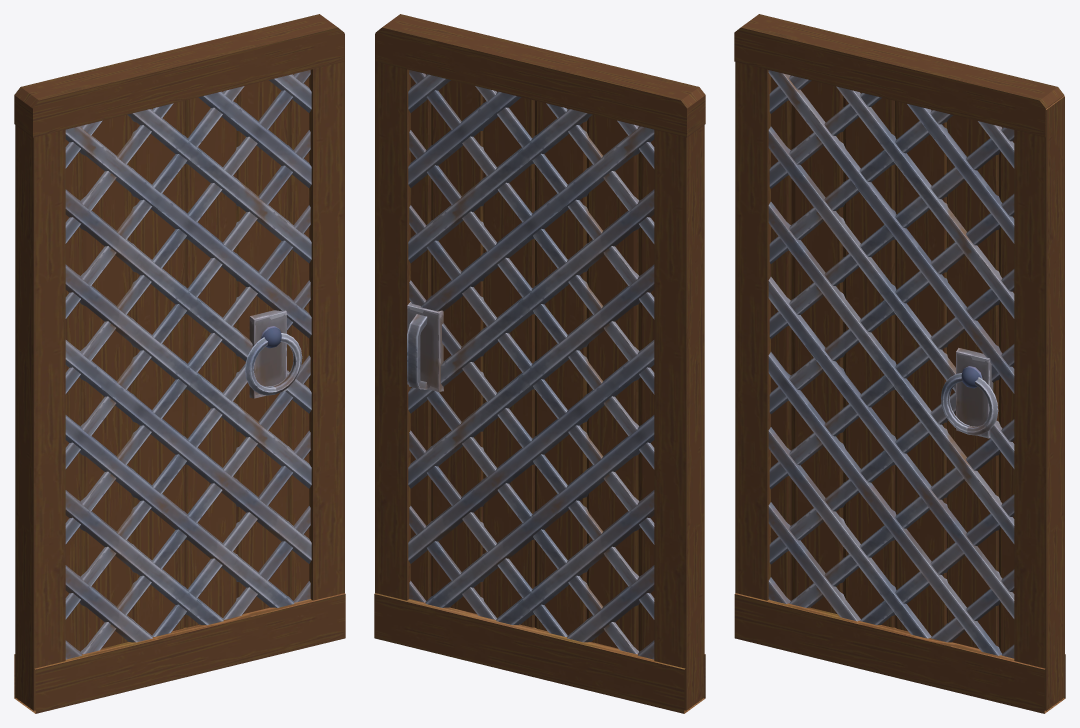
File: Door_4_Flat.gltf
3 views of the same model, side by side, from view 1: azimuth 30°, elevation 25°; view 2: azimuth 150°, elevation 25°; view 3: azimuth 330°, elevation 25° (orthographic).
Parts seen in each view (by area): view 1: Door_4_Flat; view 2: Door_4_Flat; view 3: Door_4_Flat.
Part boxes in pixels (x1,y1,x2,y2): Door_4_Flat: [14, 14, 345, 713]; Door_4_Flat: [374, 14, 705, 713]; Door_4_Flat: [734, 14, 1065, 713].
Bounding box in the file's own units: 1.12 × 2.09 × 0.2093.
Materials: 2 (2 with a texture image).
